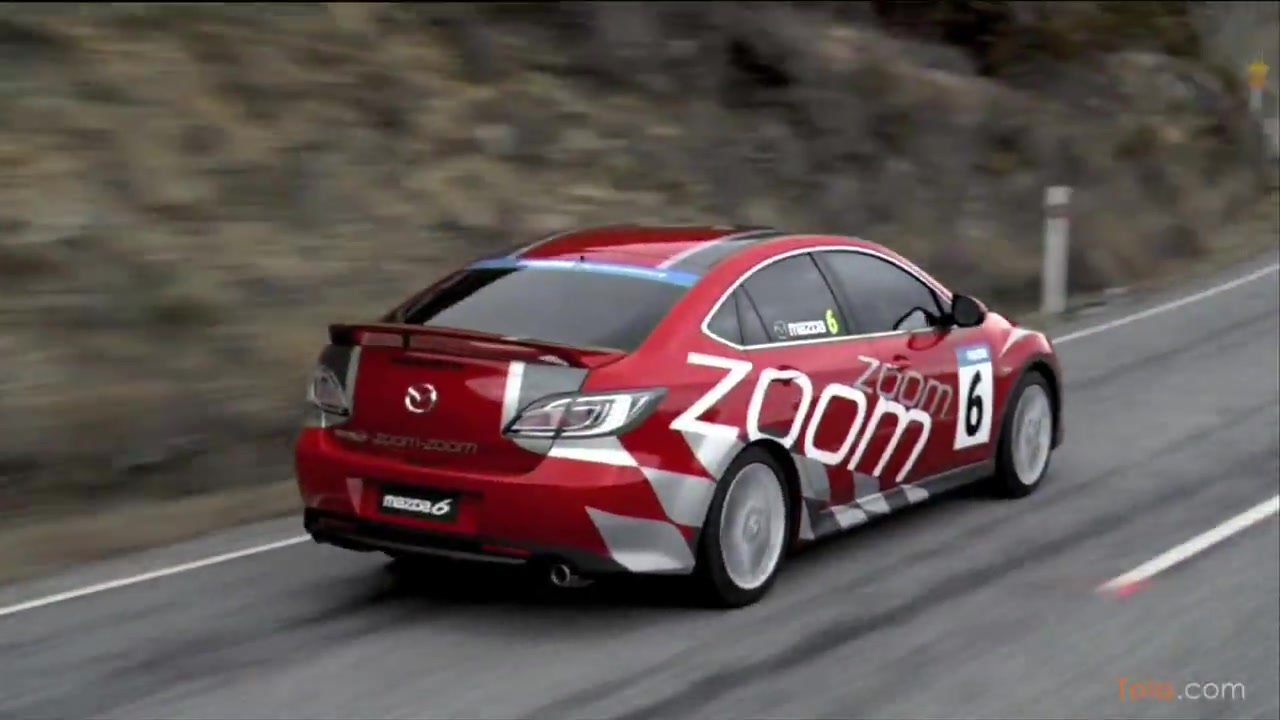car: (293, 220, 1067, 618)
